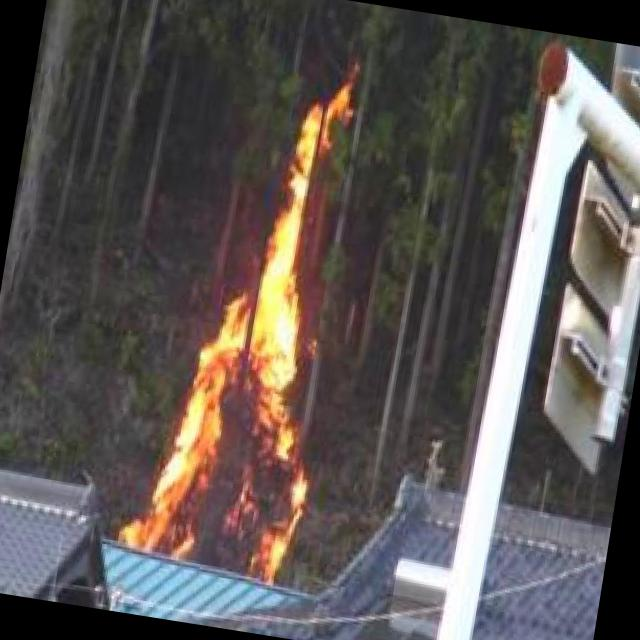Fire: (126, 65, 376, 589)
